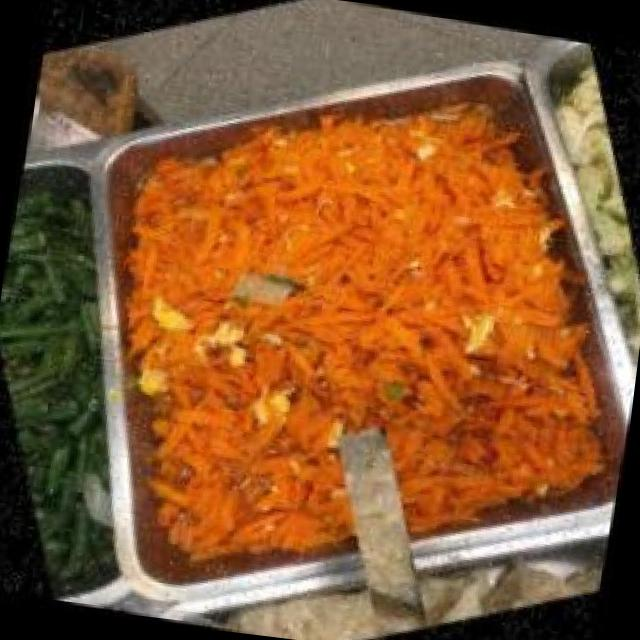carrot_eggs: (39, 19, 640, 638)
fried_dumplings: (253, 445, 522, 640)
